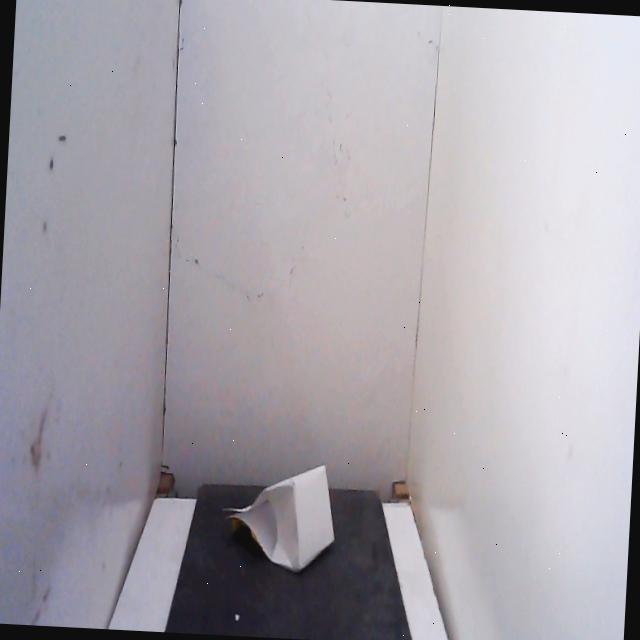paper: (212, 439, 354, 592)
